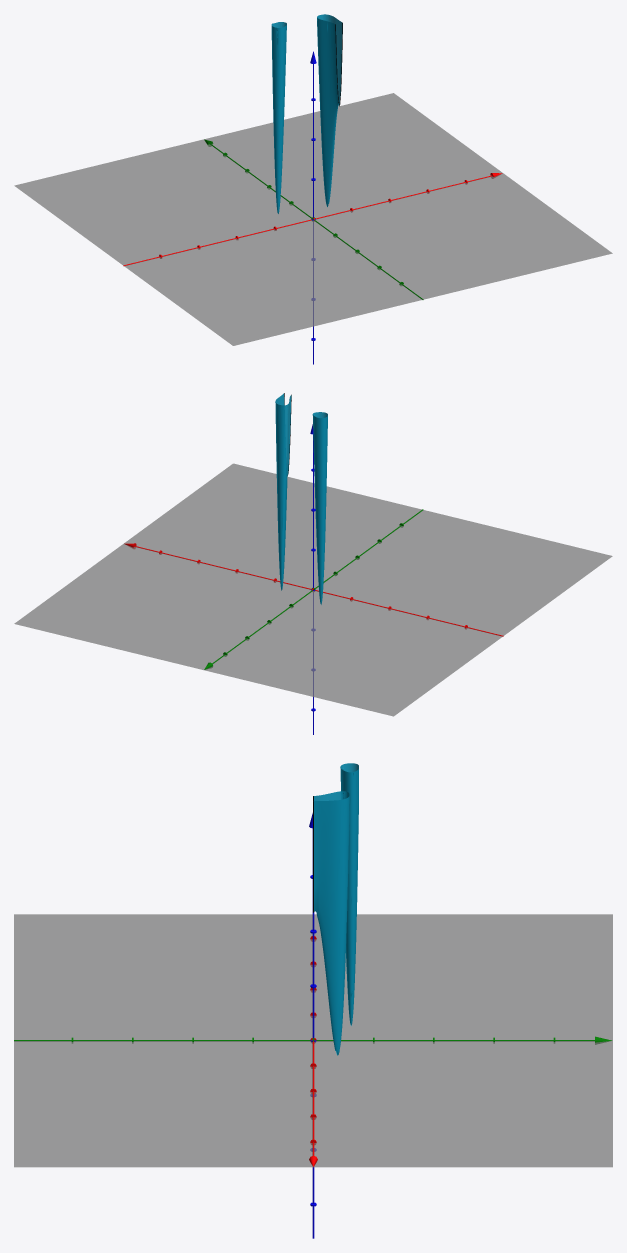
Rendered from Himmelblau.dae.
3 views of the same model, one above another, from view 1: azimuth 30°, elevation 25°; view 2: azimuth 150°, elevation 25°; view 3: azimuth 270°, elevation 25° (orthographic). The views are drawn at different scales.
Parts seen in each view (by area): view 1: xOyPlane, xOyPlane_2, f_2, f_3, xAxis, yAxis; view 2: xOyPlane, xOyPlane_2, f_2, f_3, xAxis, yAxis; view 3: xOyPlane, xOyPlane_2, f_2, f_3, yAxis, zAxis.
Part boxes in pixels (<box>): xOyPlane: <box>14,93,612,345</box>; xOyPlane_2: <box>15,93,611,345</box>; f_2: <box>271,14,342,213</box>; f_3: <box>272,14,342,213</box>; xAxis: <box>123,173,502,266</box>; yAxis: <box>204,139,423,299</box>; xOyPlane: <box>14,464,612,716</box>; xOyPlane_2: <box>15,464,611,716</box>; f_2: <box>275,393,327,604</box>; f_3: <box>276,394,327,603</box>; xAxis: <box>124,543,503,636</box>; yAxis: <box>204,509,423,669</box>; xOyPlane: <box>14,914,612,1167</box>; xOyPlane_2: <box>14,914,612,1167</box>; f_2: <box>314,763,358,1055</box>; f_3: <box>314,763,358,1054</box>; yAxis: <box>14,1036,611,1044</box>; zAxis: <box>309,813,316,1238</box>.
Size of the model in its own units: 49.73 by 49.73 by 41.87.
